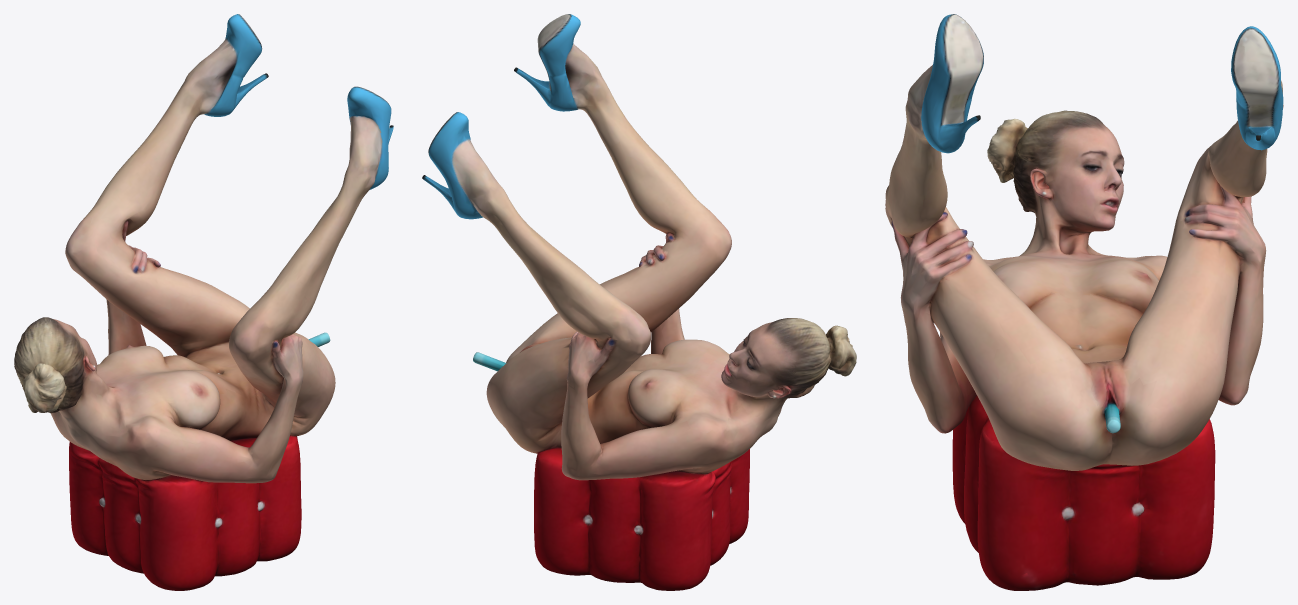
Rendered from nsC001xd.glb.
3 renders of one model, left to right at view 1: azimuth 30°, elevation 25°; view 2: azimuth 150°, elevation 25°; view 3: azimuth 270°, elevation 25°, orthographic. The views are drawn at different scales.
Parts seen in each view (by area): view 1: Atlas2.003; view 2: Atlas2.003; view 3: Atlas2.003.
Part boxes in pixels (bbox=[...]): Atlas2.003: bbox=[14, 14, 393, 590]; Atlas2.003: bbox=[422, 14, 856, 590]; Atlas2.003: bbox=[885, 14, 1283, 590].
Bounding box in the file's own units: 1.03 × 1.3 × 0.7795.
Materials: 1 (1 with a texture image).
